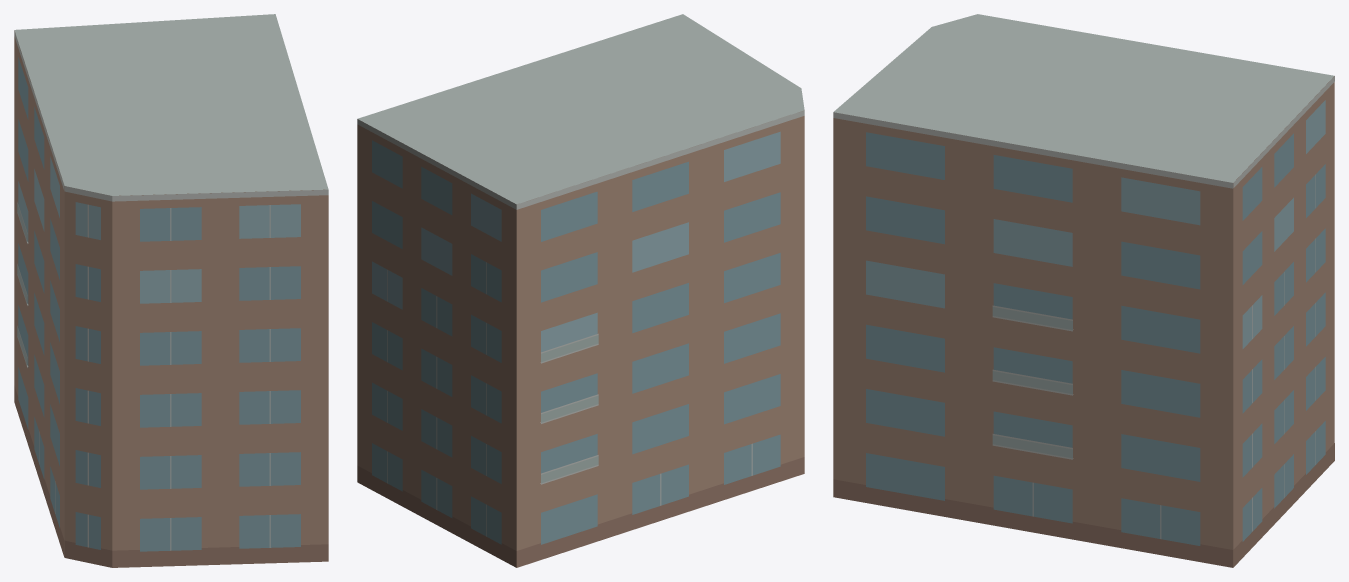
Rendered from survey-upis-32561908.glb.
3 renders of one model, left to right at view 1: azimuth 30°, elevation 25°; view 2: azimuth 150°, elevation 25°; view 3: azimuth 270°, elevation 25°, orthographic. The views are drawn at different scales.
Parts seen in each view (by area): view 1: survey-upis-32561908.tmp; view 2: survey-upis-32561908.tmp; view 3: survey-upis-32561908.tmp.
Boxes of the visible parts, <box> form: survey-upis-32561908.tmp: <box>14,14,328,567</box>; survey-upis-32561908.tmp: <box>357,14,804,567</box>; survey-upis-32561908.tmp: <box>833,14,1334,567</box>.
Bounding box in the file's own units: 15.34 × 16.29 × 19.24.
